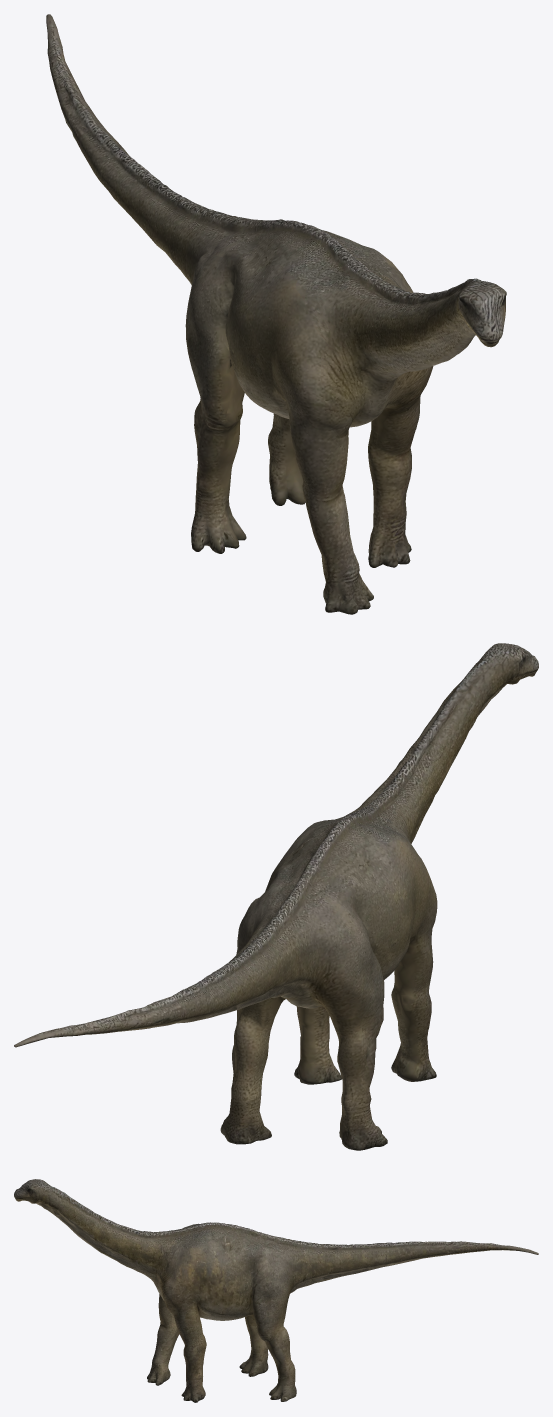
The model's file is diplodocus.glb.
The picture shows the model from 3 angles, top to bottom: view 1: azimuth 30°, elevation 25°; view 2: azimuth 150°, elevation 25°; view 3: azimuth 270°, elevation 25°; orthographic projection. The views are drawn at different scales.
Visible parts, largest first — view 1: dino; view 2: dino; view 3: dino.
Part boxes in pixels (x1,y1,x2,y2): dino: (46, 14, 506, 614); dino: (14, 643, 538, 1150); dino: (14, 1179, 538, 1402).
Size of the model in its own units: 4.76 by 11.08 by 26.
1 material, 1 textured.
